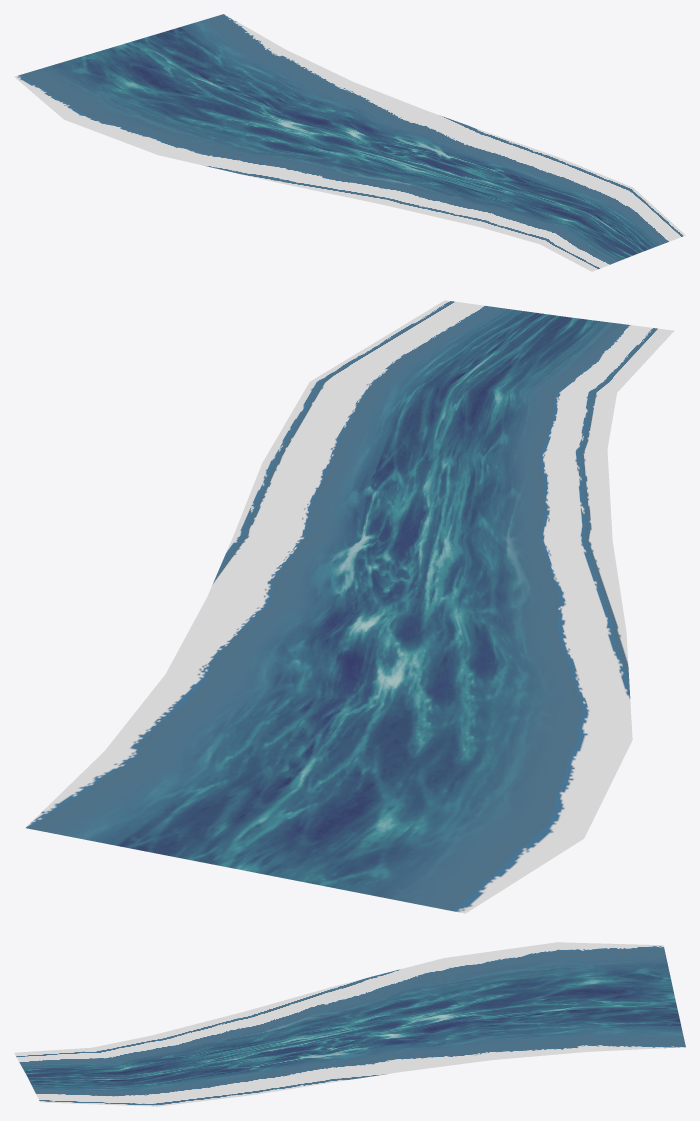
The model's file is shui2.FBX.
3 views of the same model, one above another, from view 1: azimuth 30°, elevation 25°; view 2: azimuth 150°, elevation 25°; view 3: azimuth 270°, elevation 25° (orthographic). The views are drawn at different scales.
Parts seen in each view (by area): view 1: Line01; view 2: Line01; view 3: Line01.
Boxes of the visible parts, left/top/right/bottom form: Line01: left=14, top=14, right=685, bottom=271; Line01: left=26, top=300, right=674, bottom=913; Line01: left=14, top=942, right=685, bottom=1106.
Bounding box in the file's own units: 1285 × 2218 × 3.05e-05.
1 material, 1 textured.
